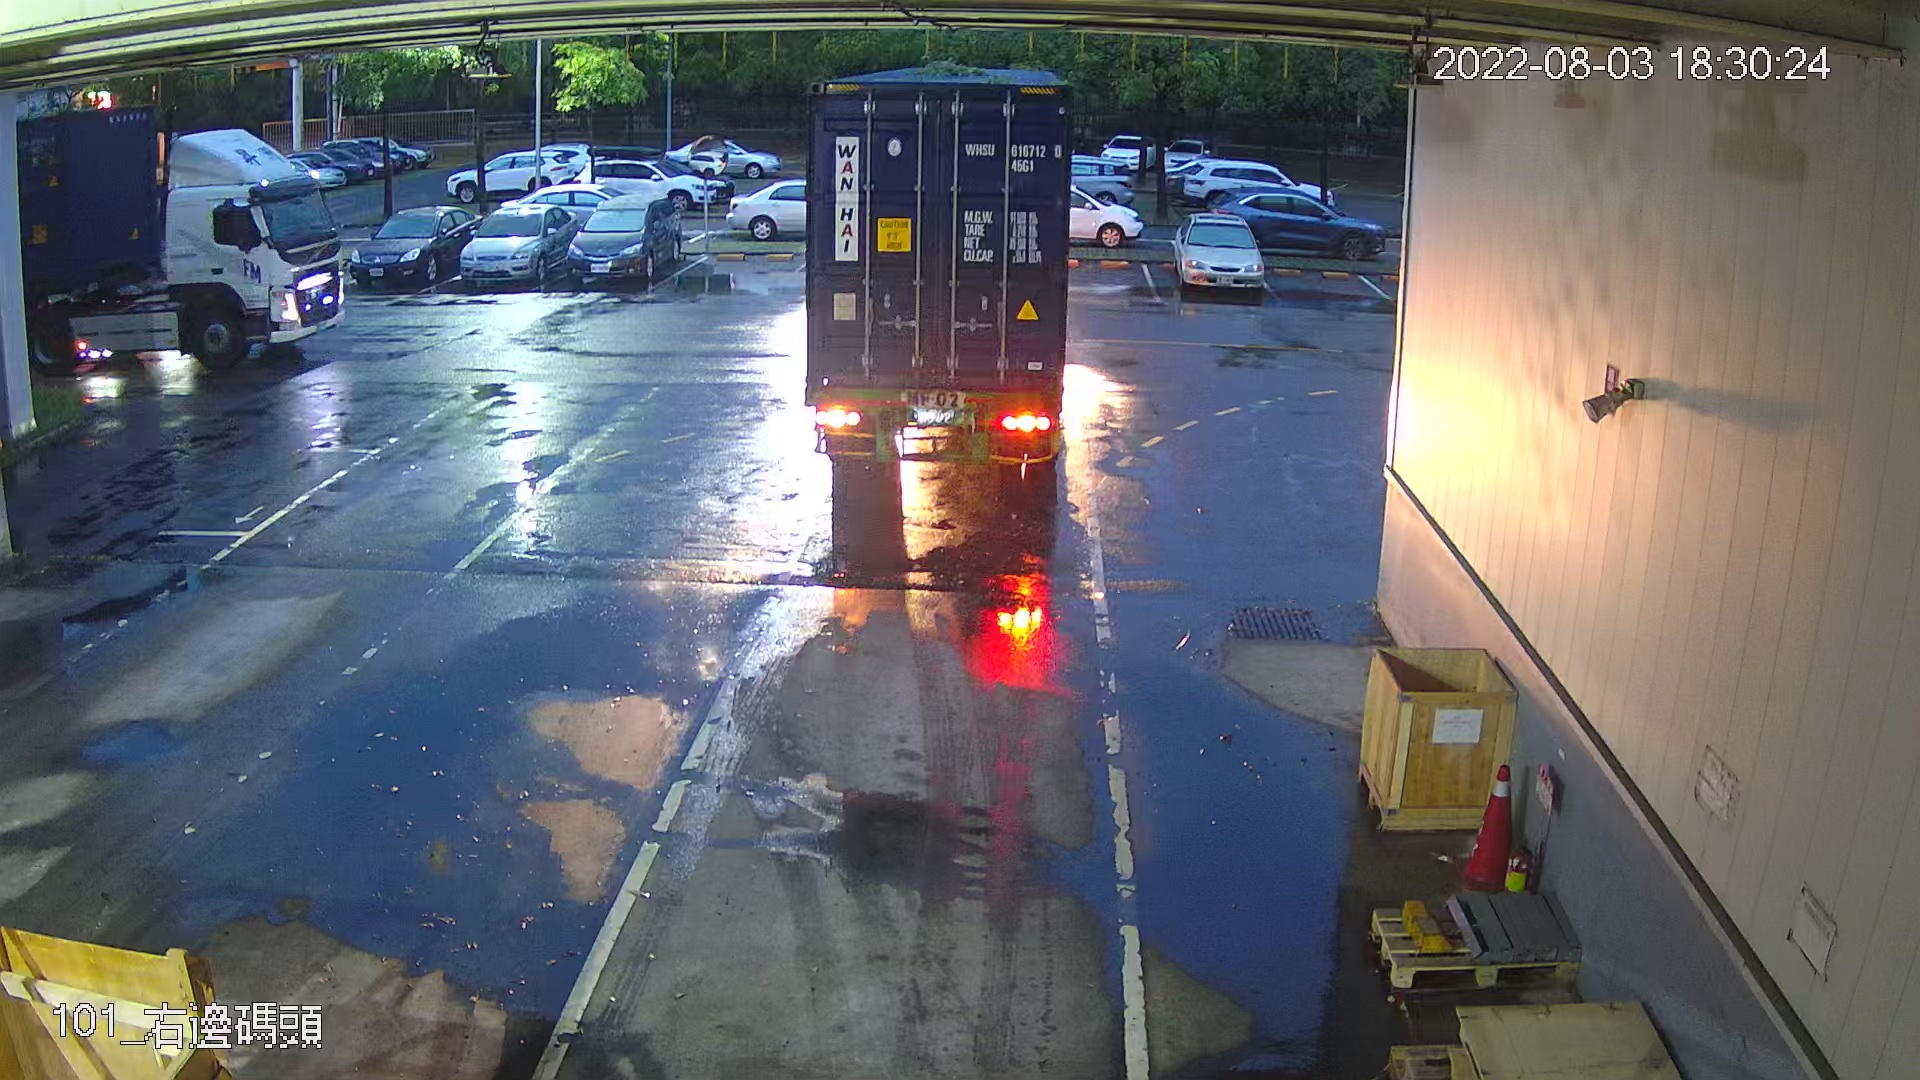container: (960, 136, 1065, 177)
